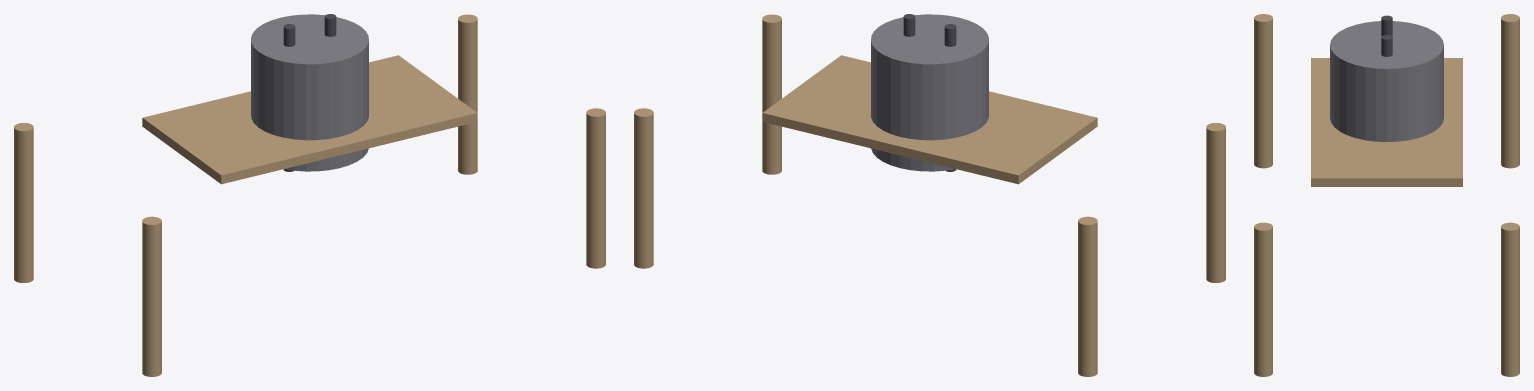
File: electrolysis_cell.glb
The picture shows the model from 3 angles, left to right: view 1: azimuth 30°, elevation 25°; view 2: azimuth 150°, elevation 25°; view 3: azimuth 270°, elevation 25°; orthographic projection. The views are drawn at different scales.
Parts seen in each view (by area): view 1: bench_top, electrolysis_cell, bench_leg_1.3_-0.65, bench_leg_-1.3_-0.65, bench_leg_-1.3_0.65, bench_leg_1.3_0.65; view 2: bench_top, electrolysis_cell, bench_leg_1.3_0.65, bench_leg_-1.3_0.65, bench_leg_-1.3_-0.65, bench_leg_1.3_-0.65; view 3: electrolysis_cell, bench_top, bench_leg_1.3_0.65, bench_leg_1.3_-0.65, bench_leg_-1.3_0.65, bench_leg_-1.3_-0.65, electrode_0.12, electrode_-0.12.
Boxes of the visible parts, x1,y1,x2,y2 form: bench_top: [142, 55, 477, 184]; electrolysis_cell: [251, 14, 368, 171]; bench_leg_1.3_-0.65: [586, 108, 605, 268]; bench_leg_-1.3_-0.65: [142, 216, 161, 376]; bench_leg_-1.3_0.65: [14, 123, 33, 282]; bench_leg_1.3_0.65: [458, 14, 477, 174]; bench_top: [762, 55, 1097, 184]; electrolysis_cell: [871, 14, 988, 171]; bench_leg_1.3_0.65: [634, 108, 653, 268]; bench_leg_-1.3_0.65: [1078, 216, 1097, 376]; bench_leg_-1.3_-0.65: [1206, 123, 1225, 282]; bench_leg_1.3_-0.65: [762, 14, 781, 174]; electrolysis_cell: [1330, 21, 1443, 141]; bench_top: [1311, 58, 1462, 186]; bench_leg_1.3_0.65: [1501, 222, 1519, 376]; bench_leg_1.3_-0.65: [1254, 222, 1272, 376]; bench_leg_-1.3_0.65: [1501, 14, 1519, 168]; bench_leg_-1.3_-0.65: [1254, 14, 1272, 168]; electrode_0.12: [1381, 35, 1392, 56]; electrode_-0.12: [1381, 15, 1392, 35].
Bounding box in the file's own units: 2.7 × 1.4 × 1.4.
